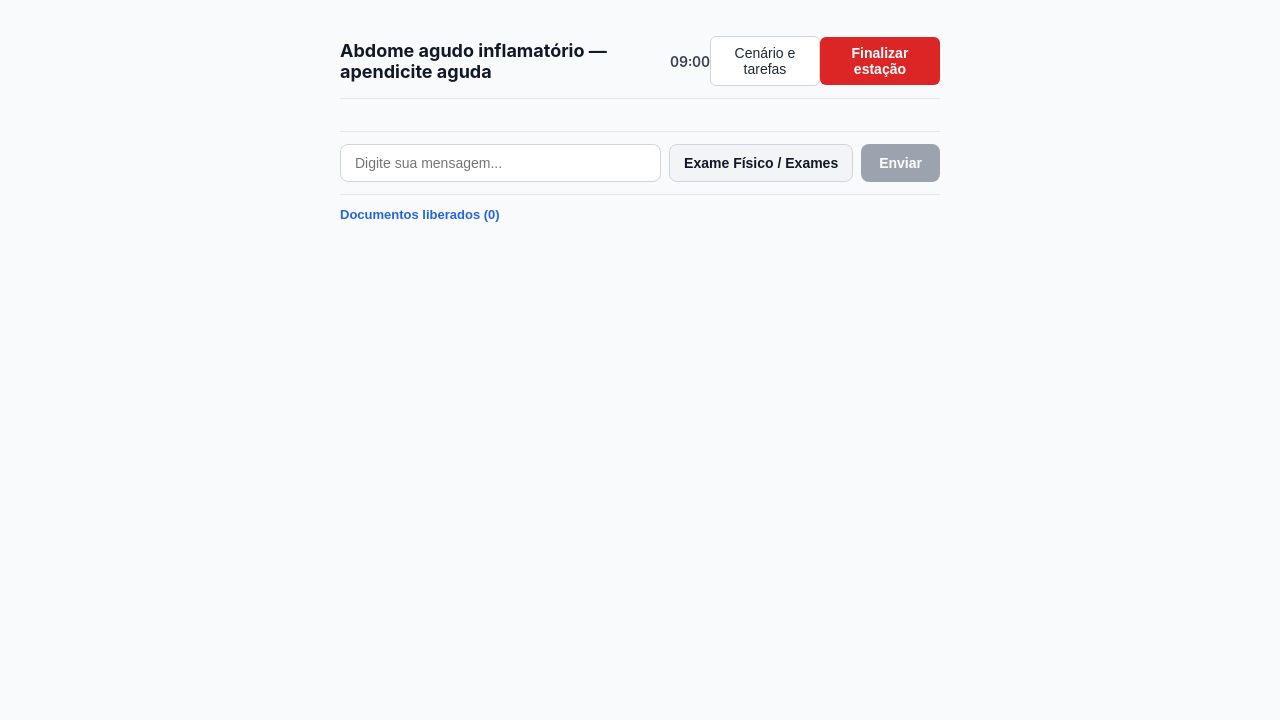
it: App › shows the station title and keeps the brief reachable during the station
The width and height of the screenshot is (1280, 720).
Check: the heading "Abdome agudo inflamatório — apendicite aguda" is shown, box left=340, top=40, right=607, bottom=82
Click the button "Cenário e tarefas".
click(765, 61)  # box left=710, top=36, right=820, bottom=86
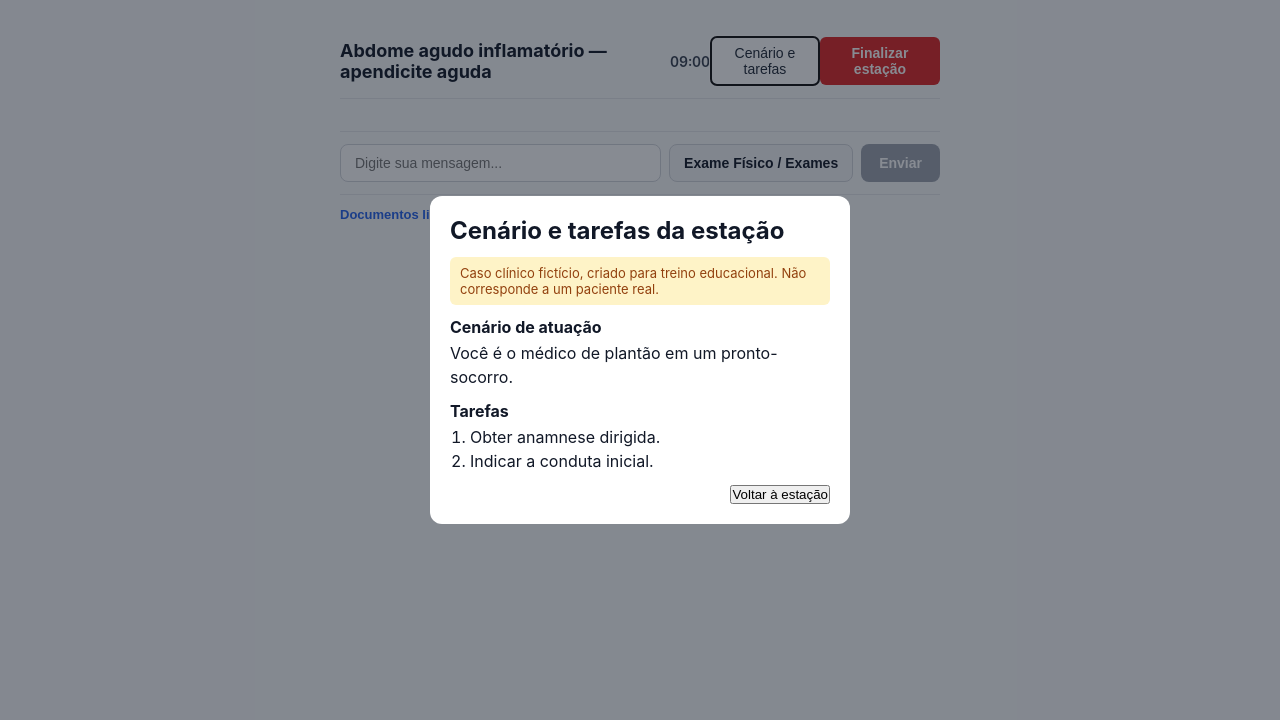
Check: the text "09:00" is shown, box left=670, top=52, right=710, bottom=70
Check: the dialog "Cenário e tarefas da estação" shows "Você é o médico de plantão em um pronto-socorro.", box left=450, top=343, right=778, bottom=387
